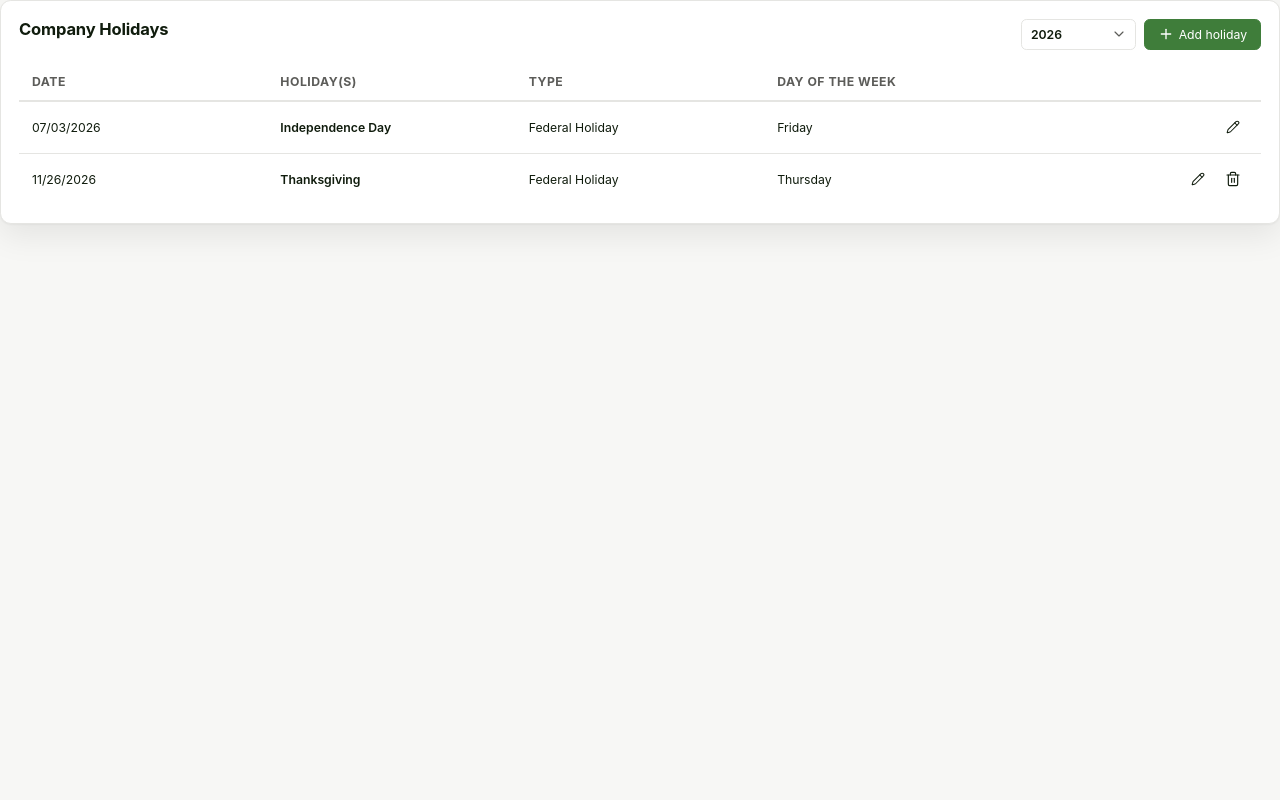
Test: CompanyHolidaysPanel › adds a holiday and shows the derived day of week
Check: the table named "Company holidays 2026" is shown, box left=19, top=64, right=1261, bottom=205
Click the button "Add holiday": coordinates (1202, 34) left=1144, top=19, right=1261, bottom=50
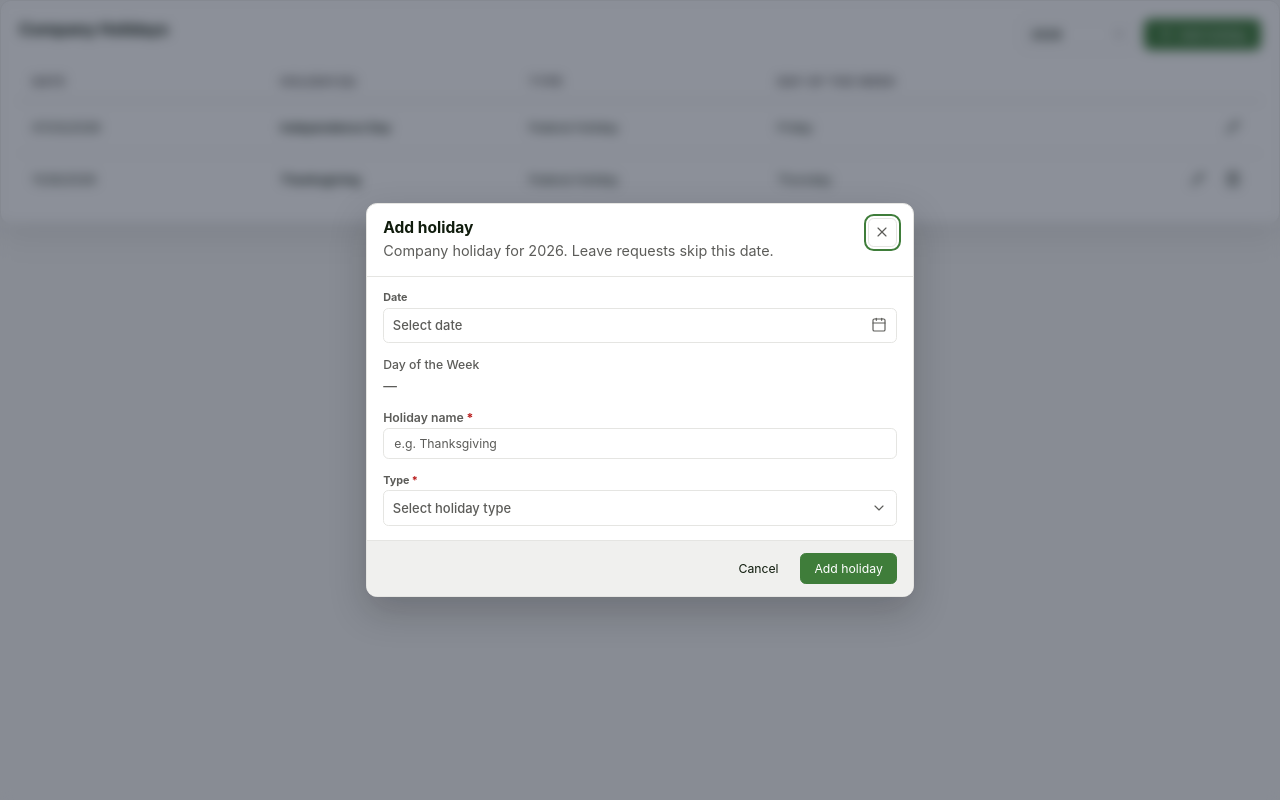
In the date field labelled "Date Select date": coordinates (640, 317) left=383, top=291, right=897, bottom=343, type "2026-09-07"
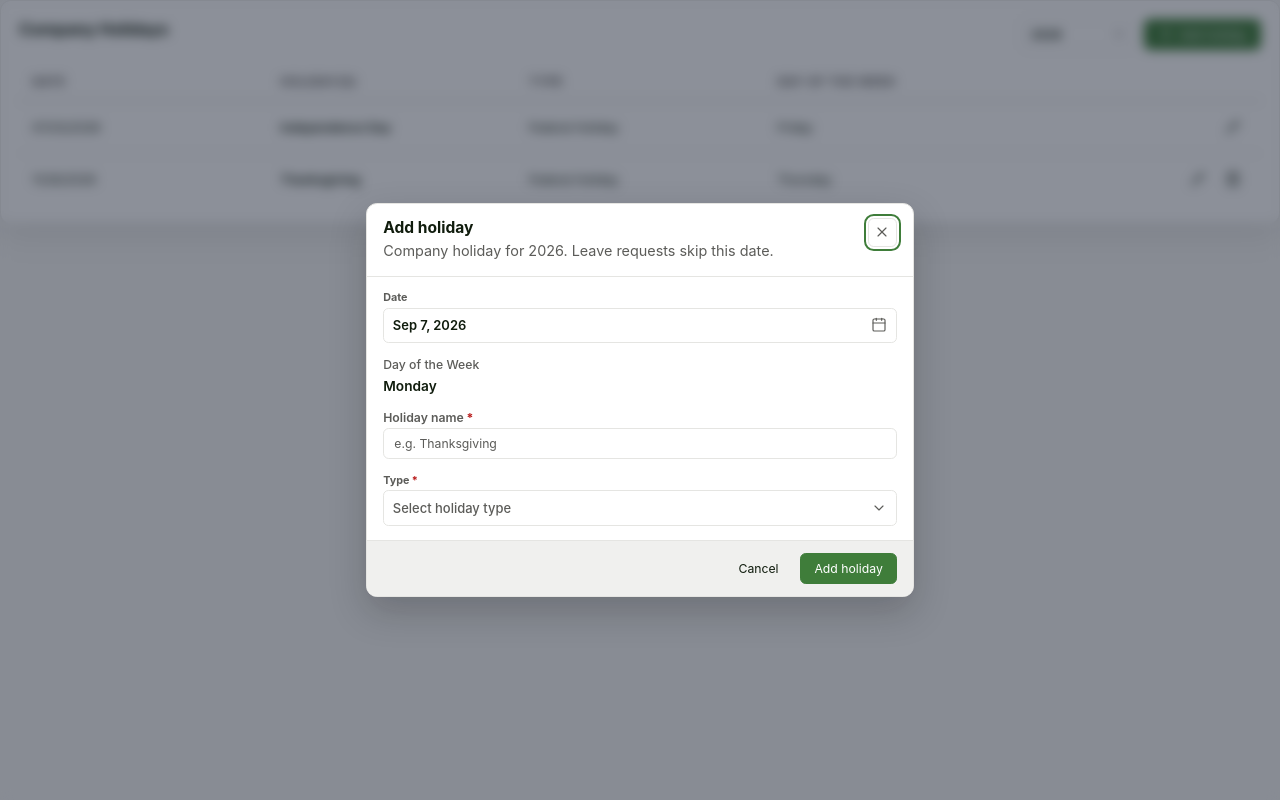
Check: the text "Monday" is shown, box left=383, top=378, right=437, bottom=394
In the field labelled "Holiday name*": coordinates (640, 444) left=383, top=428, right=897, bottom=460, type "Labor Day"
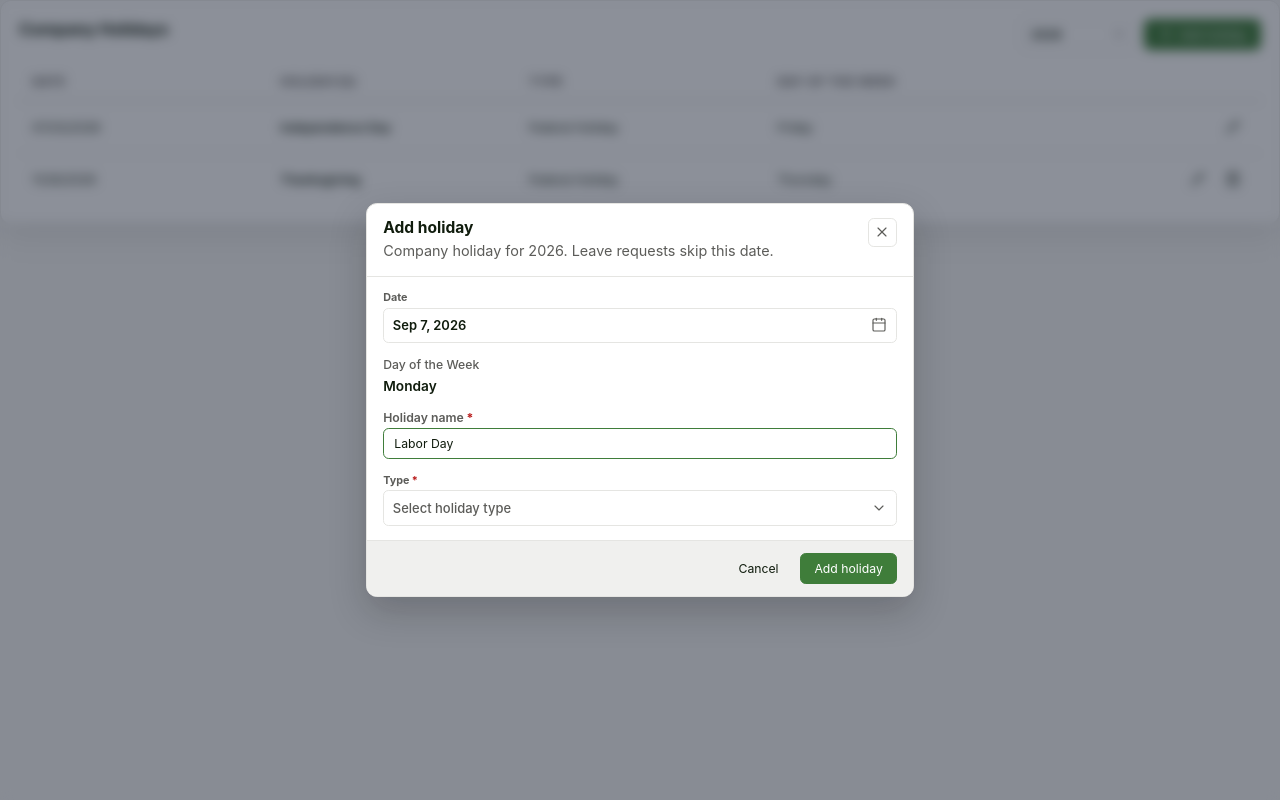
Click the dropdown labelled "Select holiday type": coordinates (452, 508) left=383, top=490, right=897, bottom=526
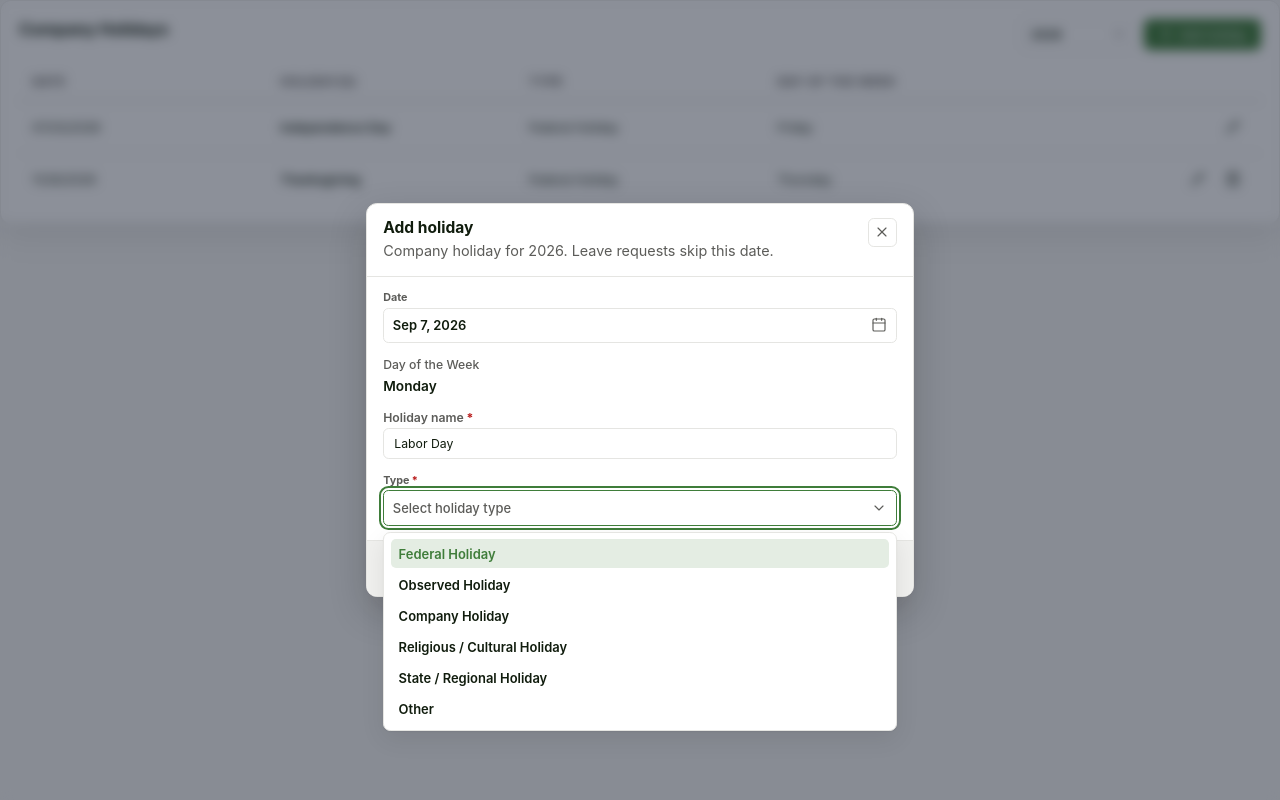
Click the option "Federal Holiday": coordinates (447, 554) left=391, top=539, right=889, bottom=568
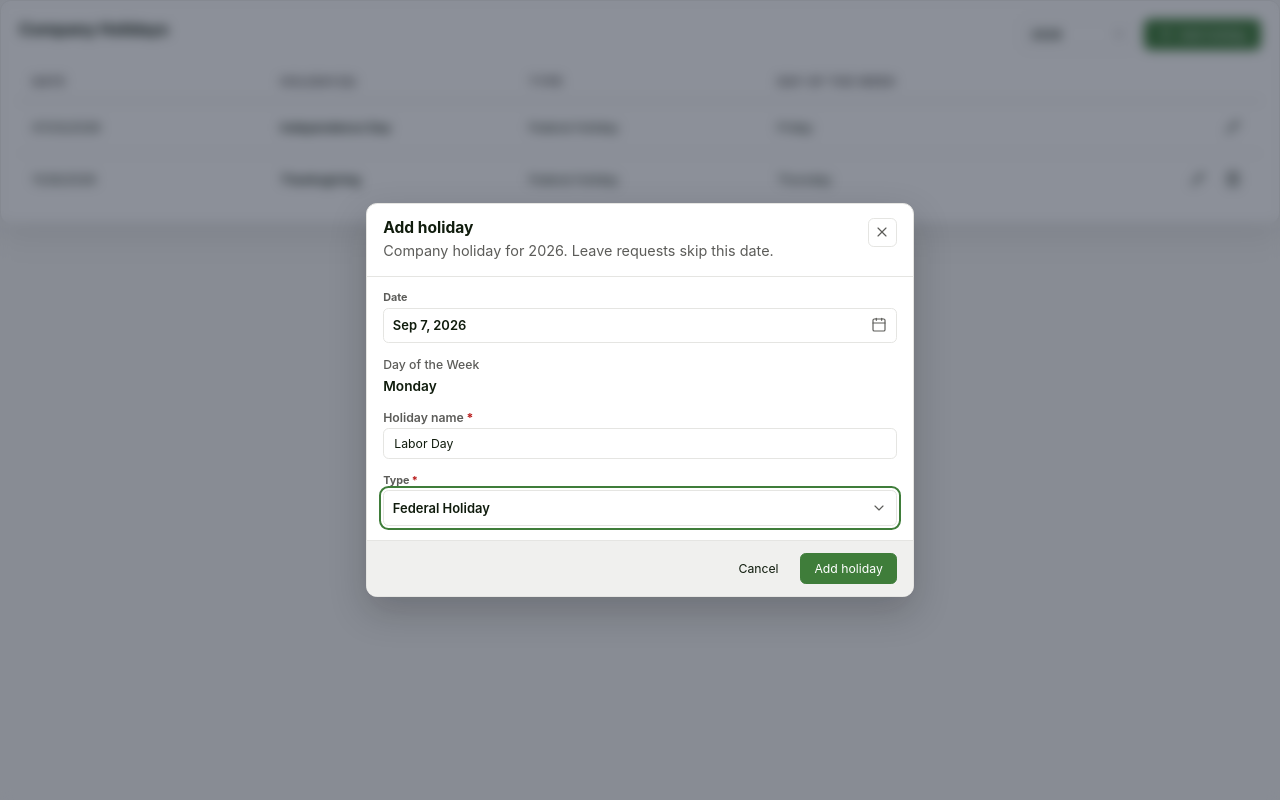
Click the button "Add holiday": coordinates (849, 569) left=800, top=553, right=897, bottom=584
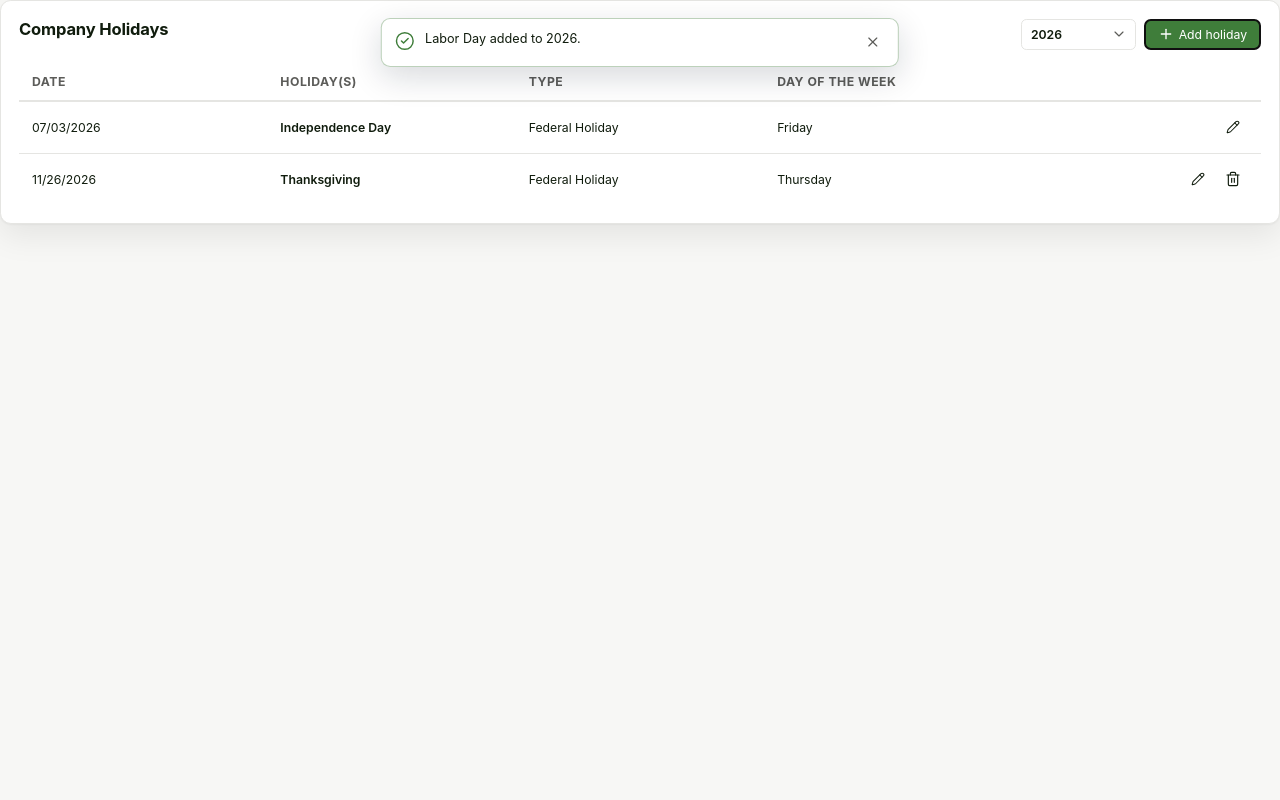
Check: the text "Labor Day added to 2026." is shown, box left=425, top=31, right=581, bottom=46
